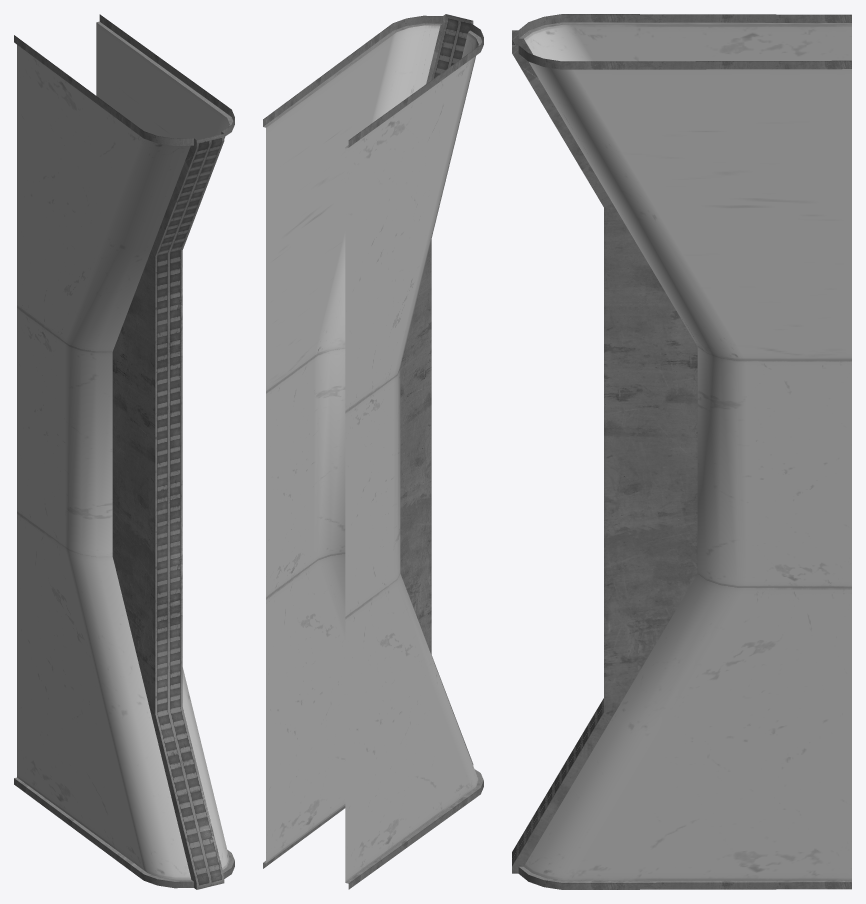
File: Wall_SupportBeam.fbx
The picture shows the model from 3 angles, left to right: view 1: azimuth 30°, elevation 25°; view 2: azimuth 150°, elevation 25°; view 3: azimuth 270°, elevation 25°; orthographic projection. The views are drawn at different scales.
Visible parts, largest first — view 1: Wall_SupportBeam; view 2: Wall_SupportBeam; view 3: Wall_SupportBeam.
Boxes of the visible parts, left/top/right/bottom form: Wall_SupportBeam: left=14, top=14, right=234, bottom=889; Wall_SupportBeam: left=263, top=14, right=483, bottom=889; Wall_SupportBeam: left=512, top=14, right=851, bottom=889.
Size of the model in its own units: 1.08 by 8.8 by 3.27.
